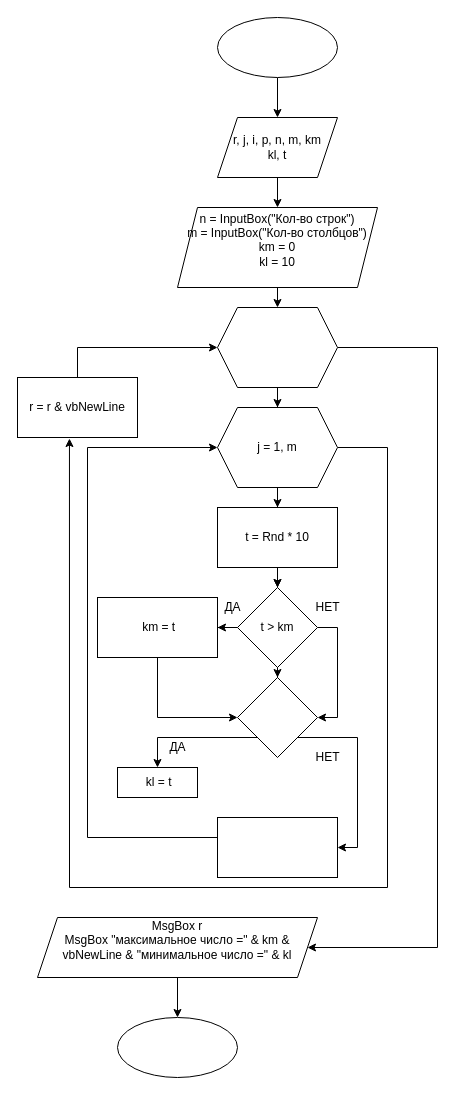
This 463x1095 diagram has some shape labels left out. Here are the shapes that lost their labels. From the top down, the box of each, then its label:
(216, 16, 338, 78): Начало
(216, 306, 338, 388): i = 1, n
(236, 676, 318, 758): t < kl
(216, 816, 338, 878): r = r & " " & t
(116, 1016, 238, 1078): Конец
